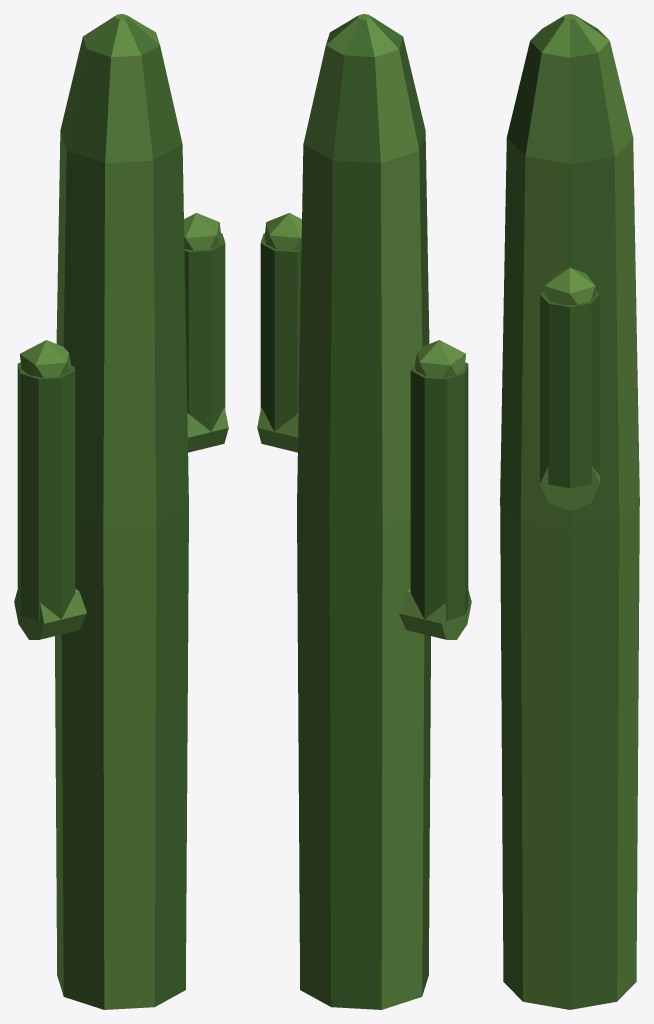
Rendered from CactusTall.fbx.
The picture shows the model from 3 angles, left to right: view 1: azimuth 30°, elevation 25°; view 2: azimuth 150°, elevation 25°; view 3: azimuth 270°, elevation 25°; orthographic projection.
Parts seen in each view (by area): view 1: CactusTall; view 2: CactusTall; view 3: CactusTall.
Boxes of the visible parts, bbox=[...] form: CactusTall: bbox=[14, 14, 228, 1009]; CactusTall: bbox=[257, 14, 471, 1009]; CactusTall: bbox=[500, 14, 639, 1009].
Bounding box in the file's own units: 3.5 × 16 × 2.1.
